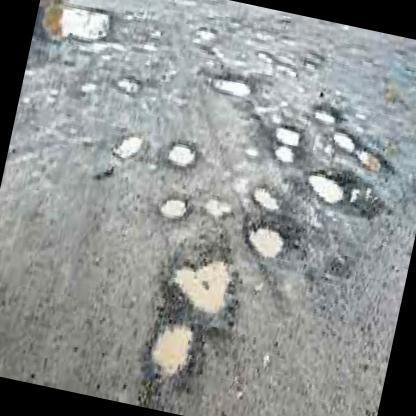pothole: (168, 246, 240, 334), (139, 316, 203, 414), (38, 0, 118, 47), (330, 128, 398, 180), (241, 214, 288, 264), (308, 168, 356, 209), (270, 120, 303, 166), (256, 50, 298, 82), (166, 138, 200, 170), (213, 73, 251, 101), (252, 182, 284, 213), (113, 132, 143, 161), (309, 101, 343, 126), (162, 198, 189, 224), (204, 195, 231, 220), (116, 74, 142, 96), (196, 26, 221, 44)
